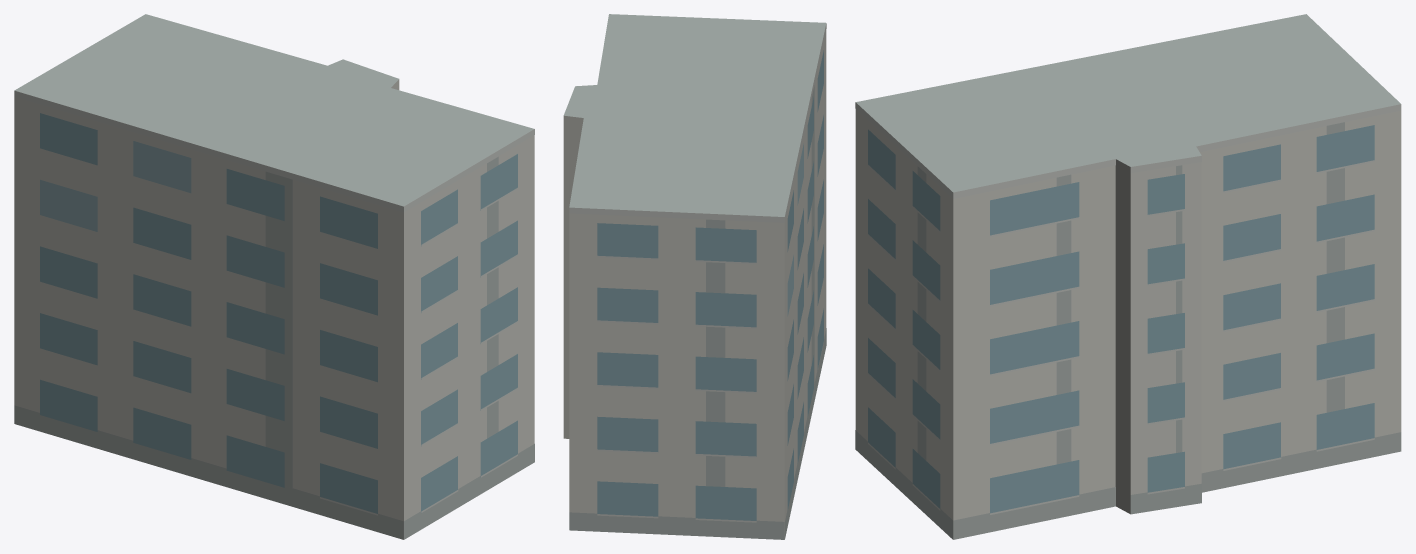
The model's file is survey-upis-32894557.glb.
3 views of the same model, side by side, from view 1: azimuth 30°, elevation 25°; view 2: azimuth 150°, elevation 25°; view 3: azimuth 270°, elevation 25° (orthographic). The views are drawn at different scales.
Parts seen in each view (by area): view 1: survey-upis-32894557.tmp; view 2: survey-upis-32894557.tmp; view 3: survey-upis-32894557.tmp.
Boxes of the visible parts, x1,y1,x2,y2 form: survey-upis-32894557.tmp: [14, 14, 534, 539]; survey-upis-32894557.tmp: [563, 14, 826, 539]; survey-upis-32894557.tmp: [855, 14, 1401, 539].
Bounding box in the file's own units: 14.61 × 13.25 × 18.88.
